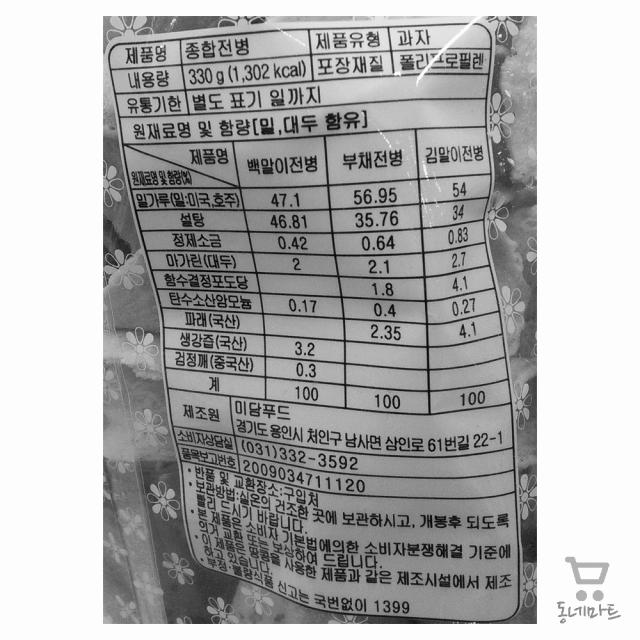Nutrition Label: (111, 88, 526, 423)
